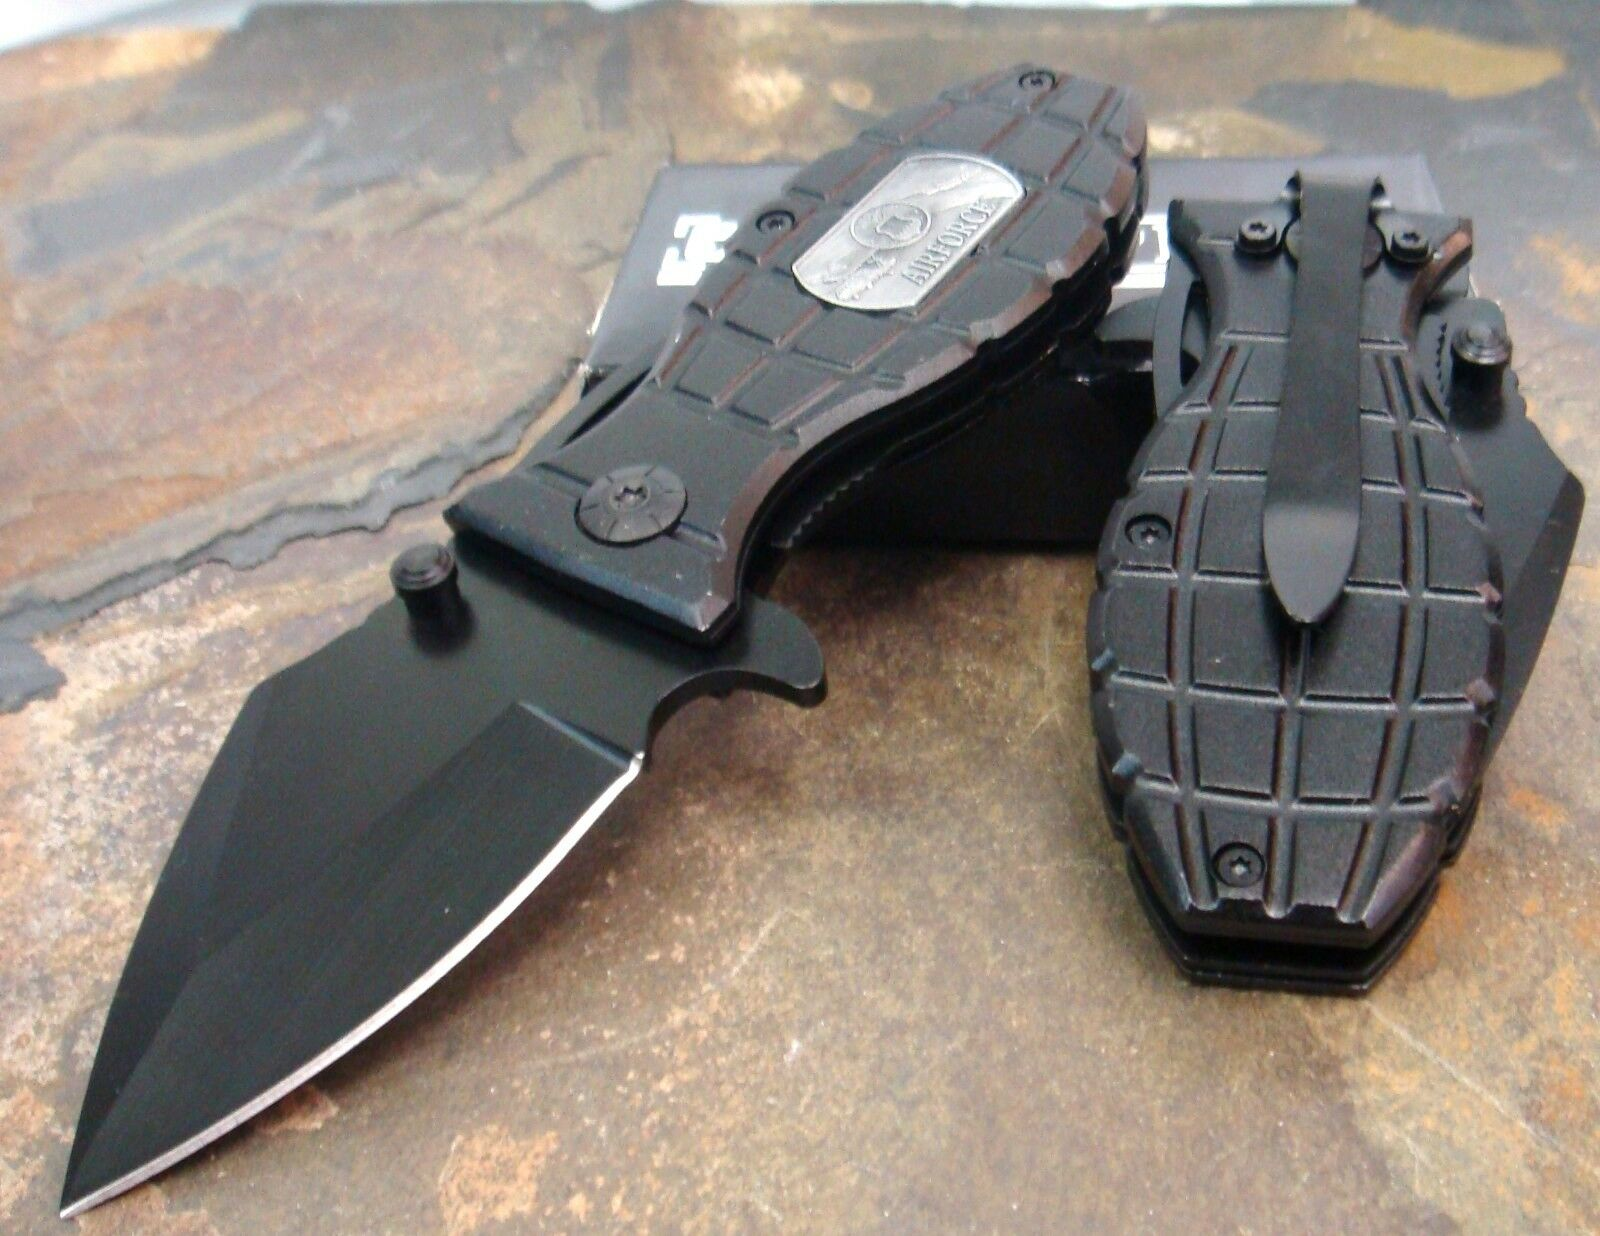knief: (78, 53, 1142, 1215)
